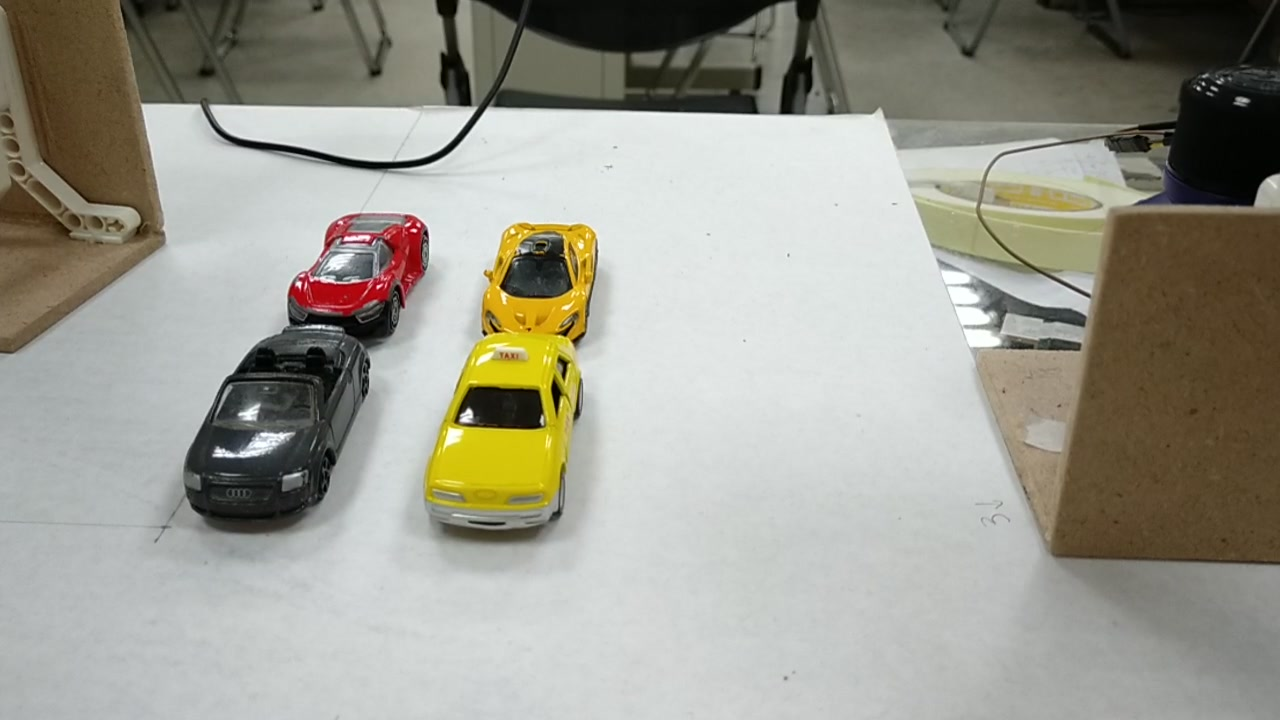car: (174, 329, 370, 518), (425, 342, 572, 525), (288, 209, 429, 326), (484, 212, 598, 335)
